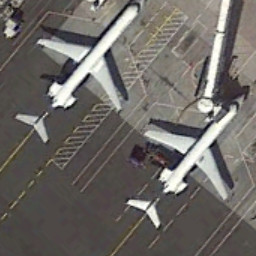Airplane: (122, 87, 252, 246), (10, 1, 145, 154)
